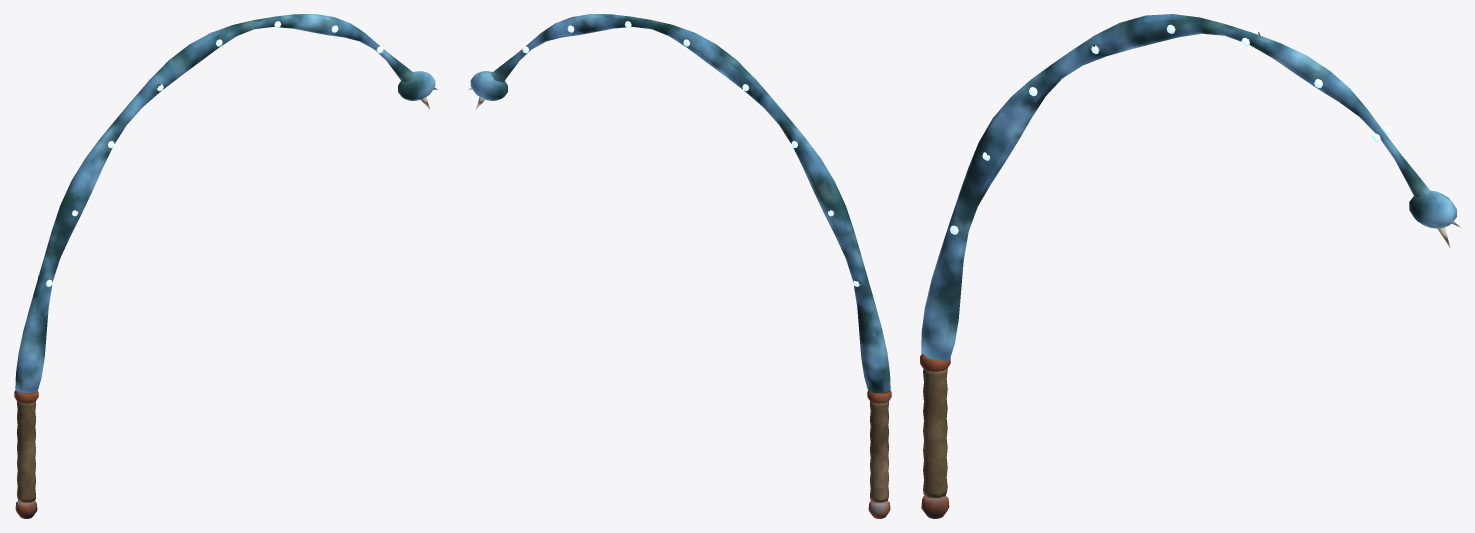
File: Eelwhip.fbx
3 views of the same model, side by side, from view 1: azimuth 30°, elevation 25°; view 2: azimuth 150°, elevation 25°; view 3: azimuth 330°, elevation 25° (orthographic). The views are drawn at different scales.
Parts seen in each view (by area): view 1: Eelwhip; view 2: Eelwhip; view 3: Eelwhip.
Boxes of the visible parts, x1,y1,x2,y2 form: Eelwhip: [14, 14, 437, 518]; Eelwhip: [468, 14, 891, 518]; Eelwhip: [920, 14, 1460, 518].
Bounding box in the file's own units: 0.9761 × 0.9737 × 0.048.
